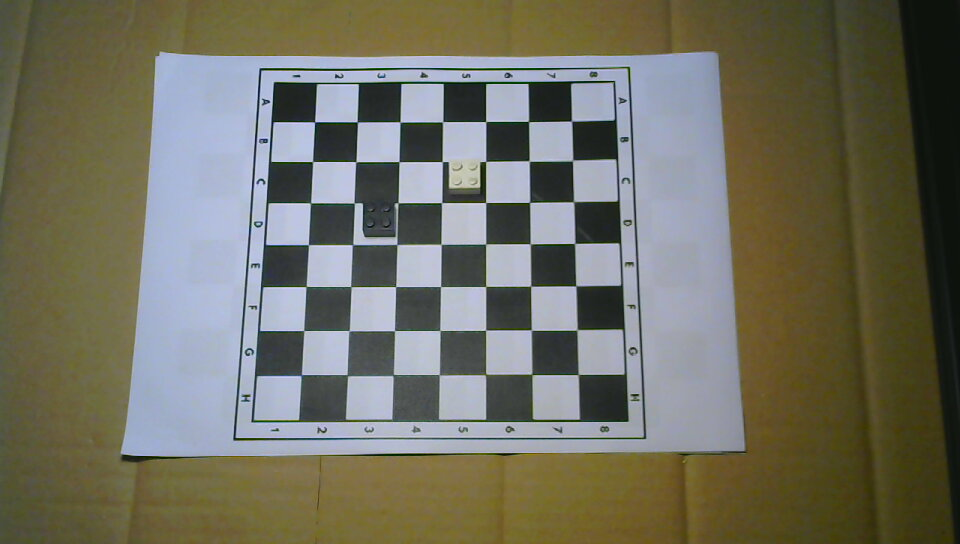bp: (361, 200, 397, 239)
wp: (447, 159, 483, 196)
